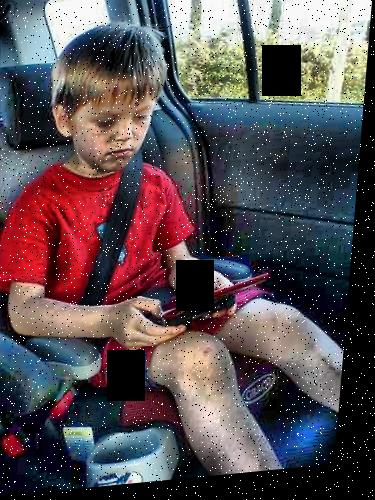seatbelt: (66, 139, 169, 373)
